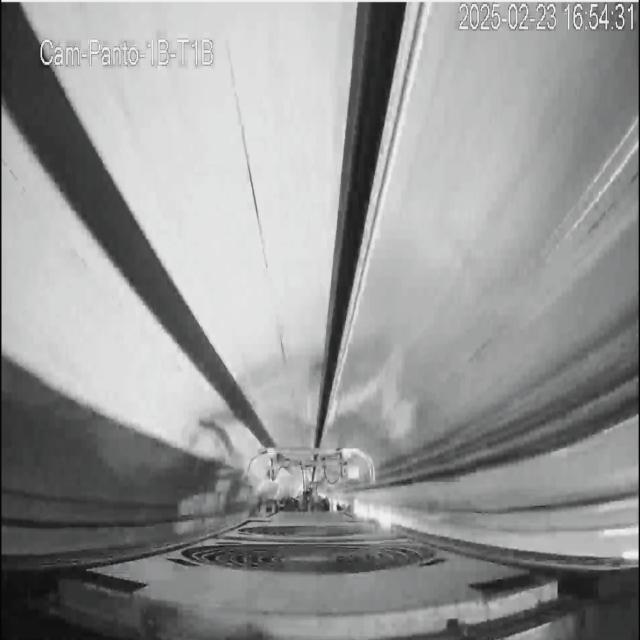Camera Stamp: (36, 31, 218, 70)
Date Stamp: (455, 3, 629, 33)
No - Spark: (253, 331, 348, 453)
